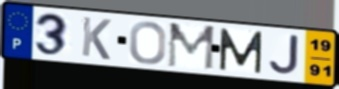3: (33, 11, 75, 58)
J: (268, 34, 301, 77)
K: (79, 15, 113, 62)
M: (166, 22, 217, 72), (218, 26, 265, 75)
O: (128, 20, 168, 66)
